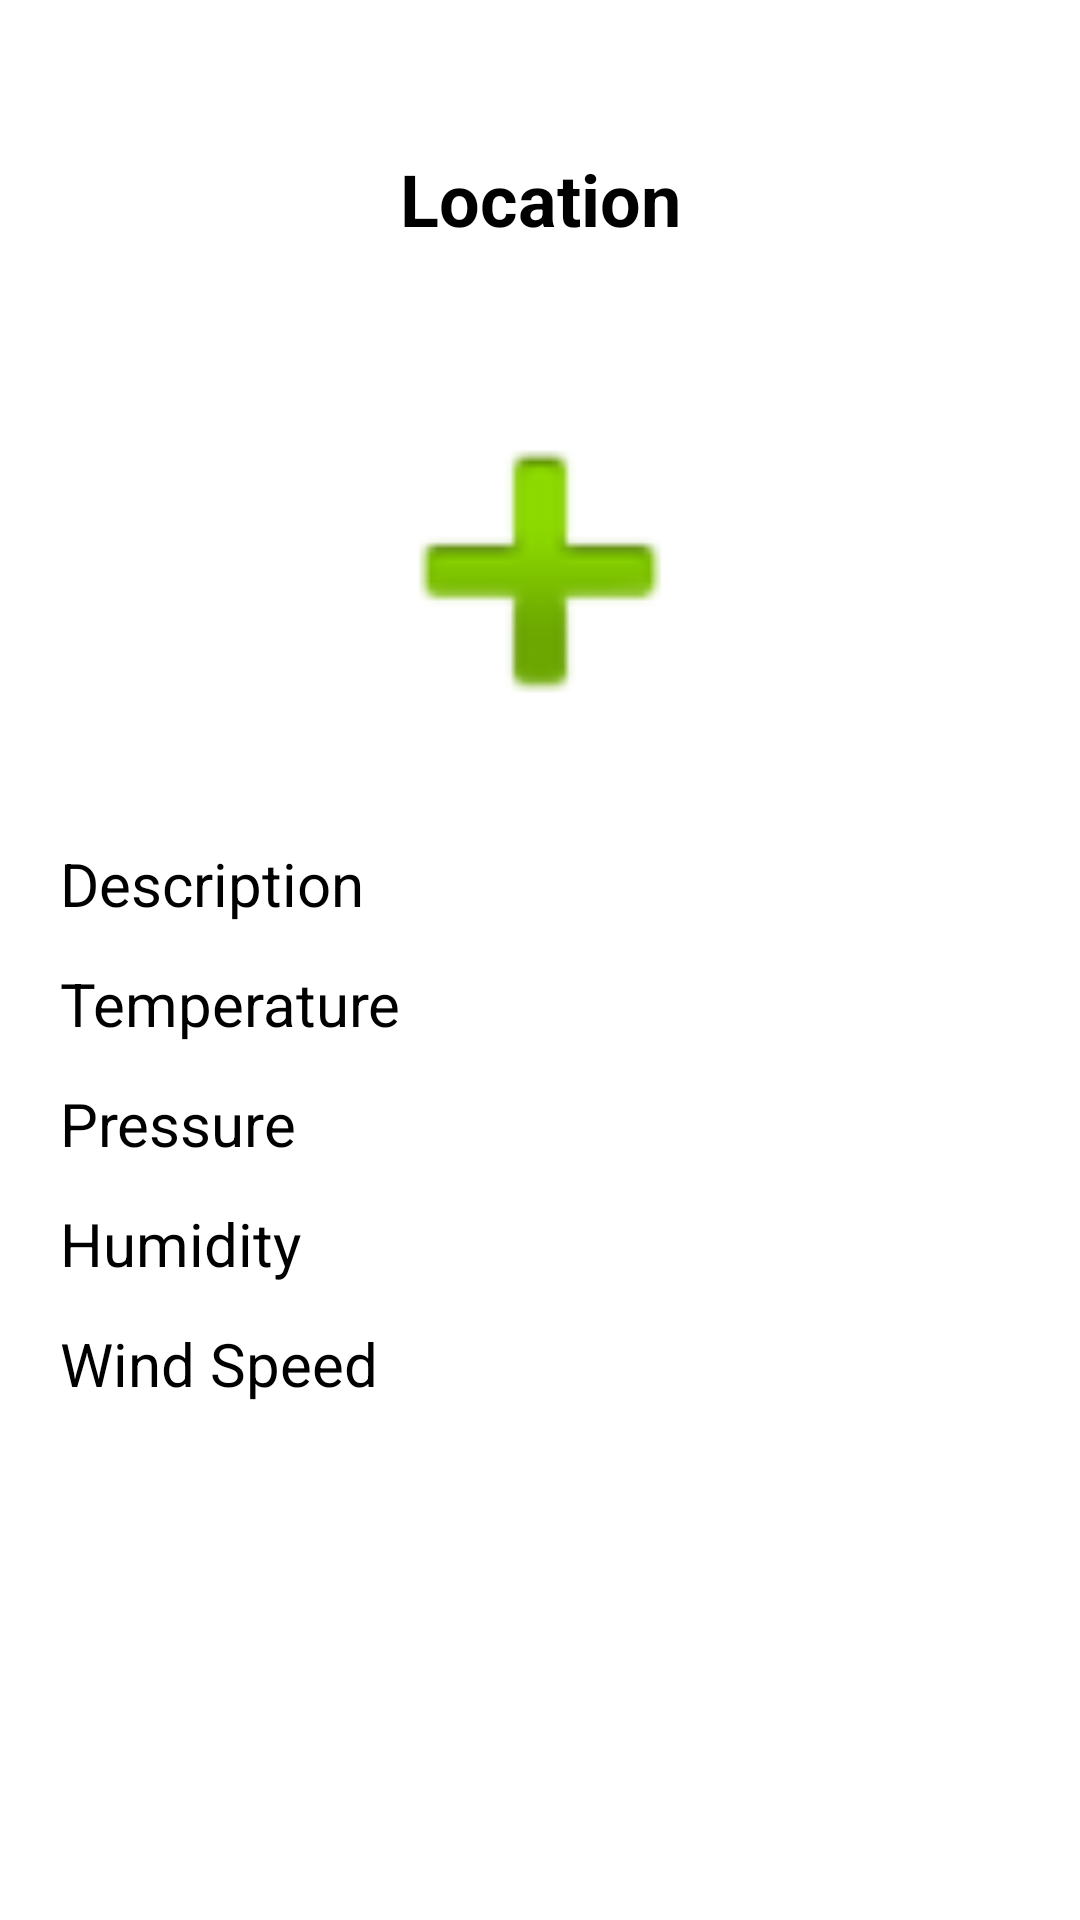

Icon bounding boxes for this 1080 × 1920 phone screenshot, format [x1,y1,x2,y2]:
Add City: [419,451,661,692]
